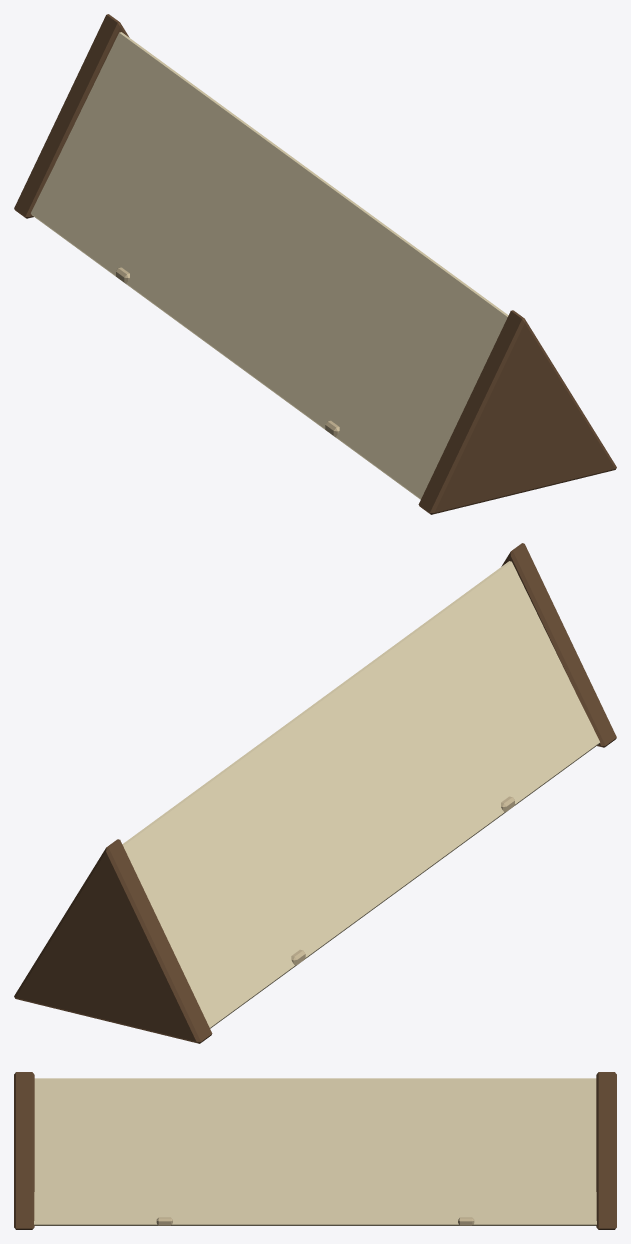
File: b14_capped_triangular_shipping_tube.glb
3 views of the same model, one above another, from view 1: azimuth 30°, elevation 25°; view 2: azimuth 150°, elevation 25°; view 3: azimuth 270°, elevation 25° (orthographic). The views are drawn at different scales.
Visible parts, largest first — view 1: b14_capped_triangular_shipping_tube; view 2: b14_capped_triangular_shipping_tube; view 3: b14_capped_triangular_shipping_tube.
Part boxes in pixels (x1=…): b14_capped_triangular_shipping_tube: x1=14, y1=14, x2=616, y2=514; b14_capped_triangular_shipping_tube: x1=14, y1=543, x2=616, y2=1043; b14_capped_triangular_shipping_tube: x1=14, y1=1072, x2=616, y2=1229.
Size of the model in its own units: 0.227 by 0.2013 by 0.88.
